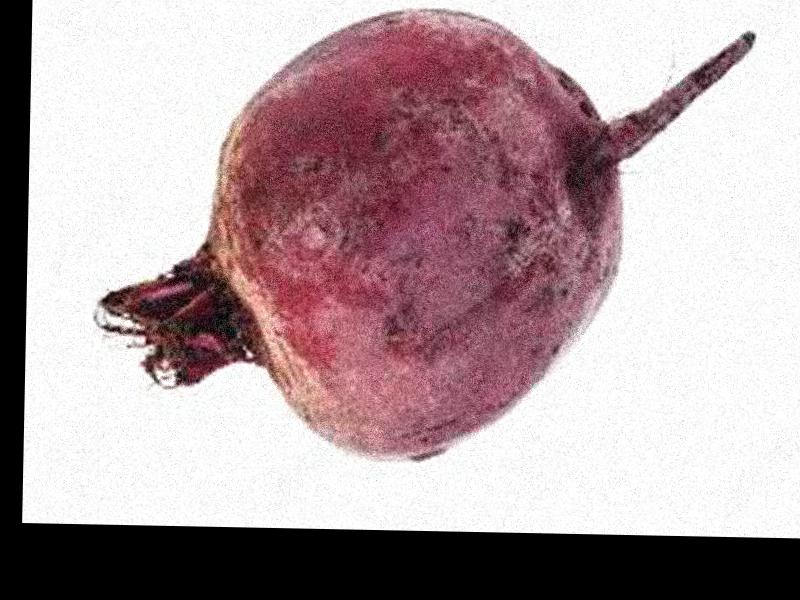Beet: (93, 1, 755, 465)
